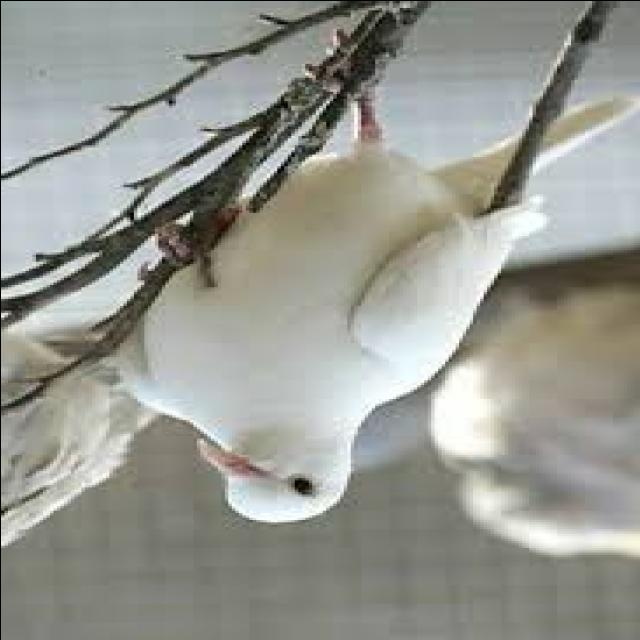pigeon: (112, 107, 576, 564)
